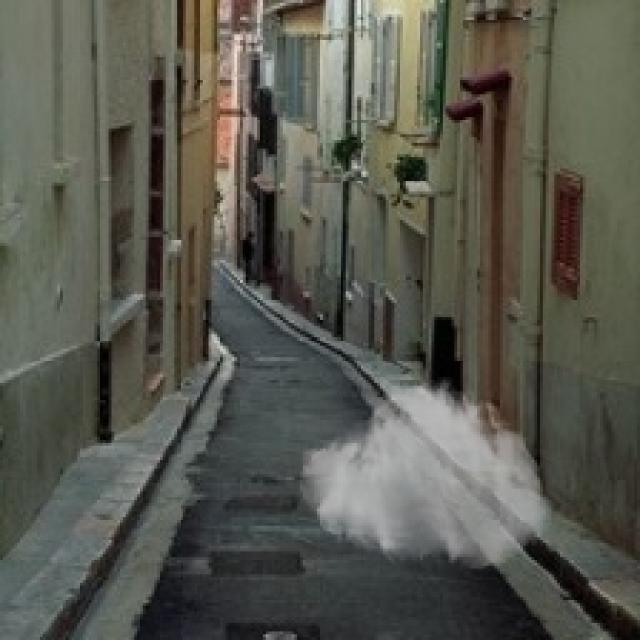Smoke: (297, 372, 554, 572)
